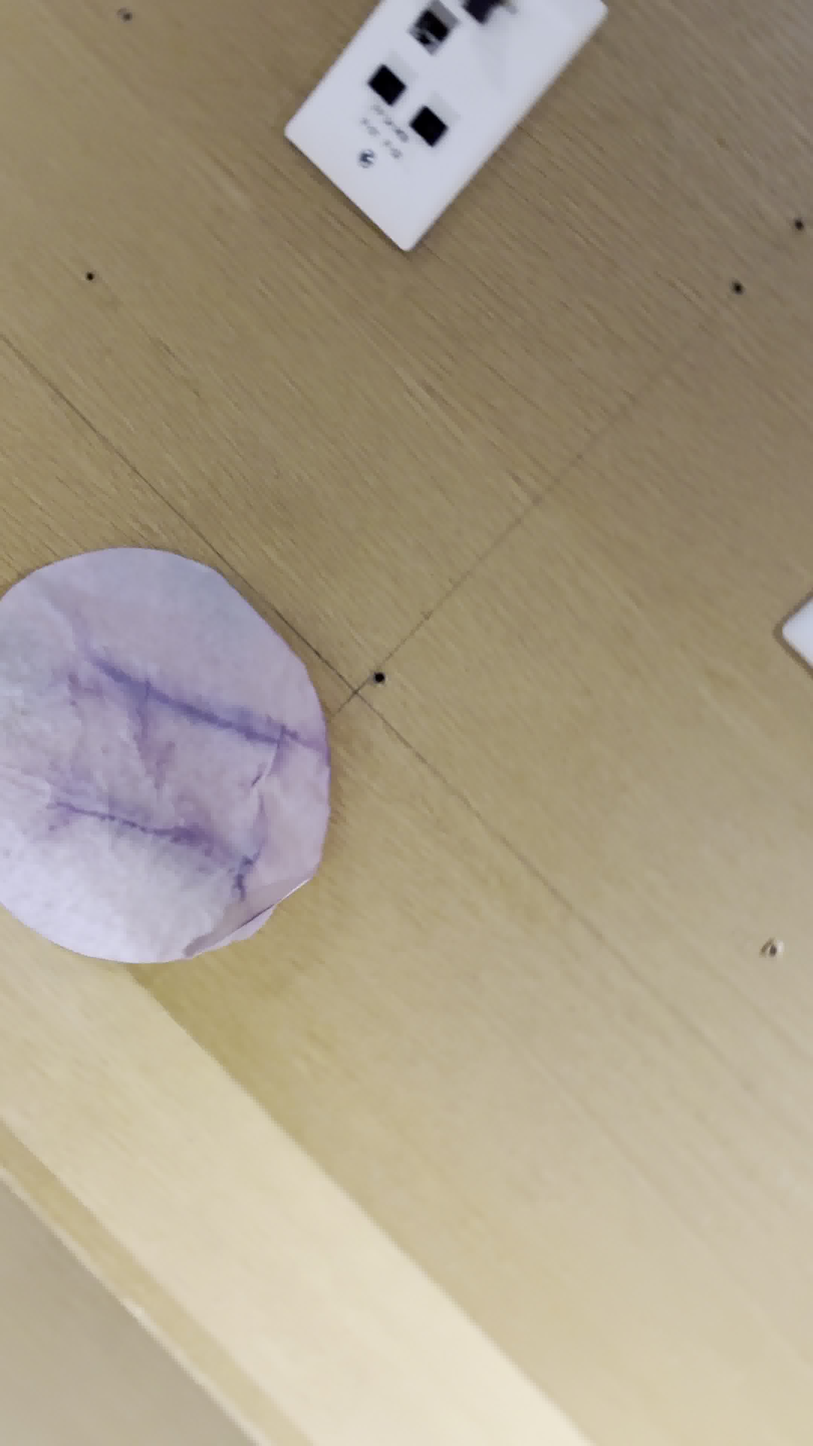Target: (0, 545, 331, 967)
